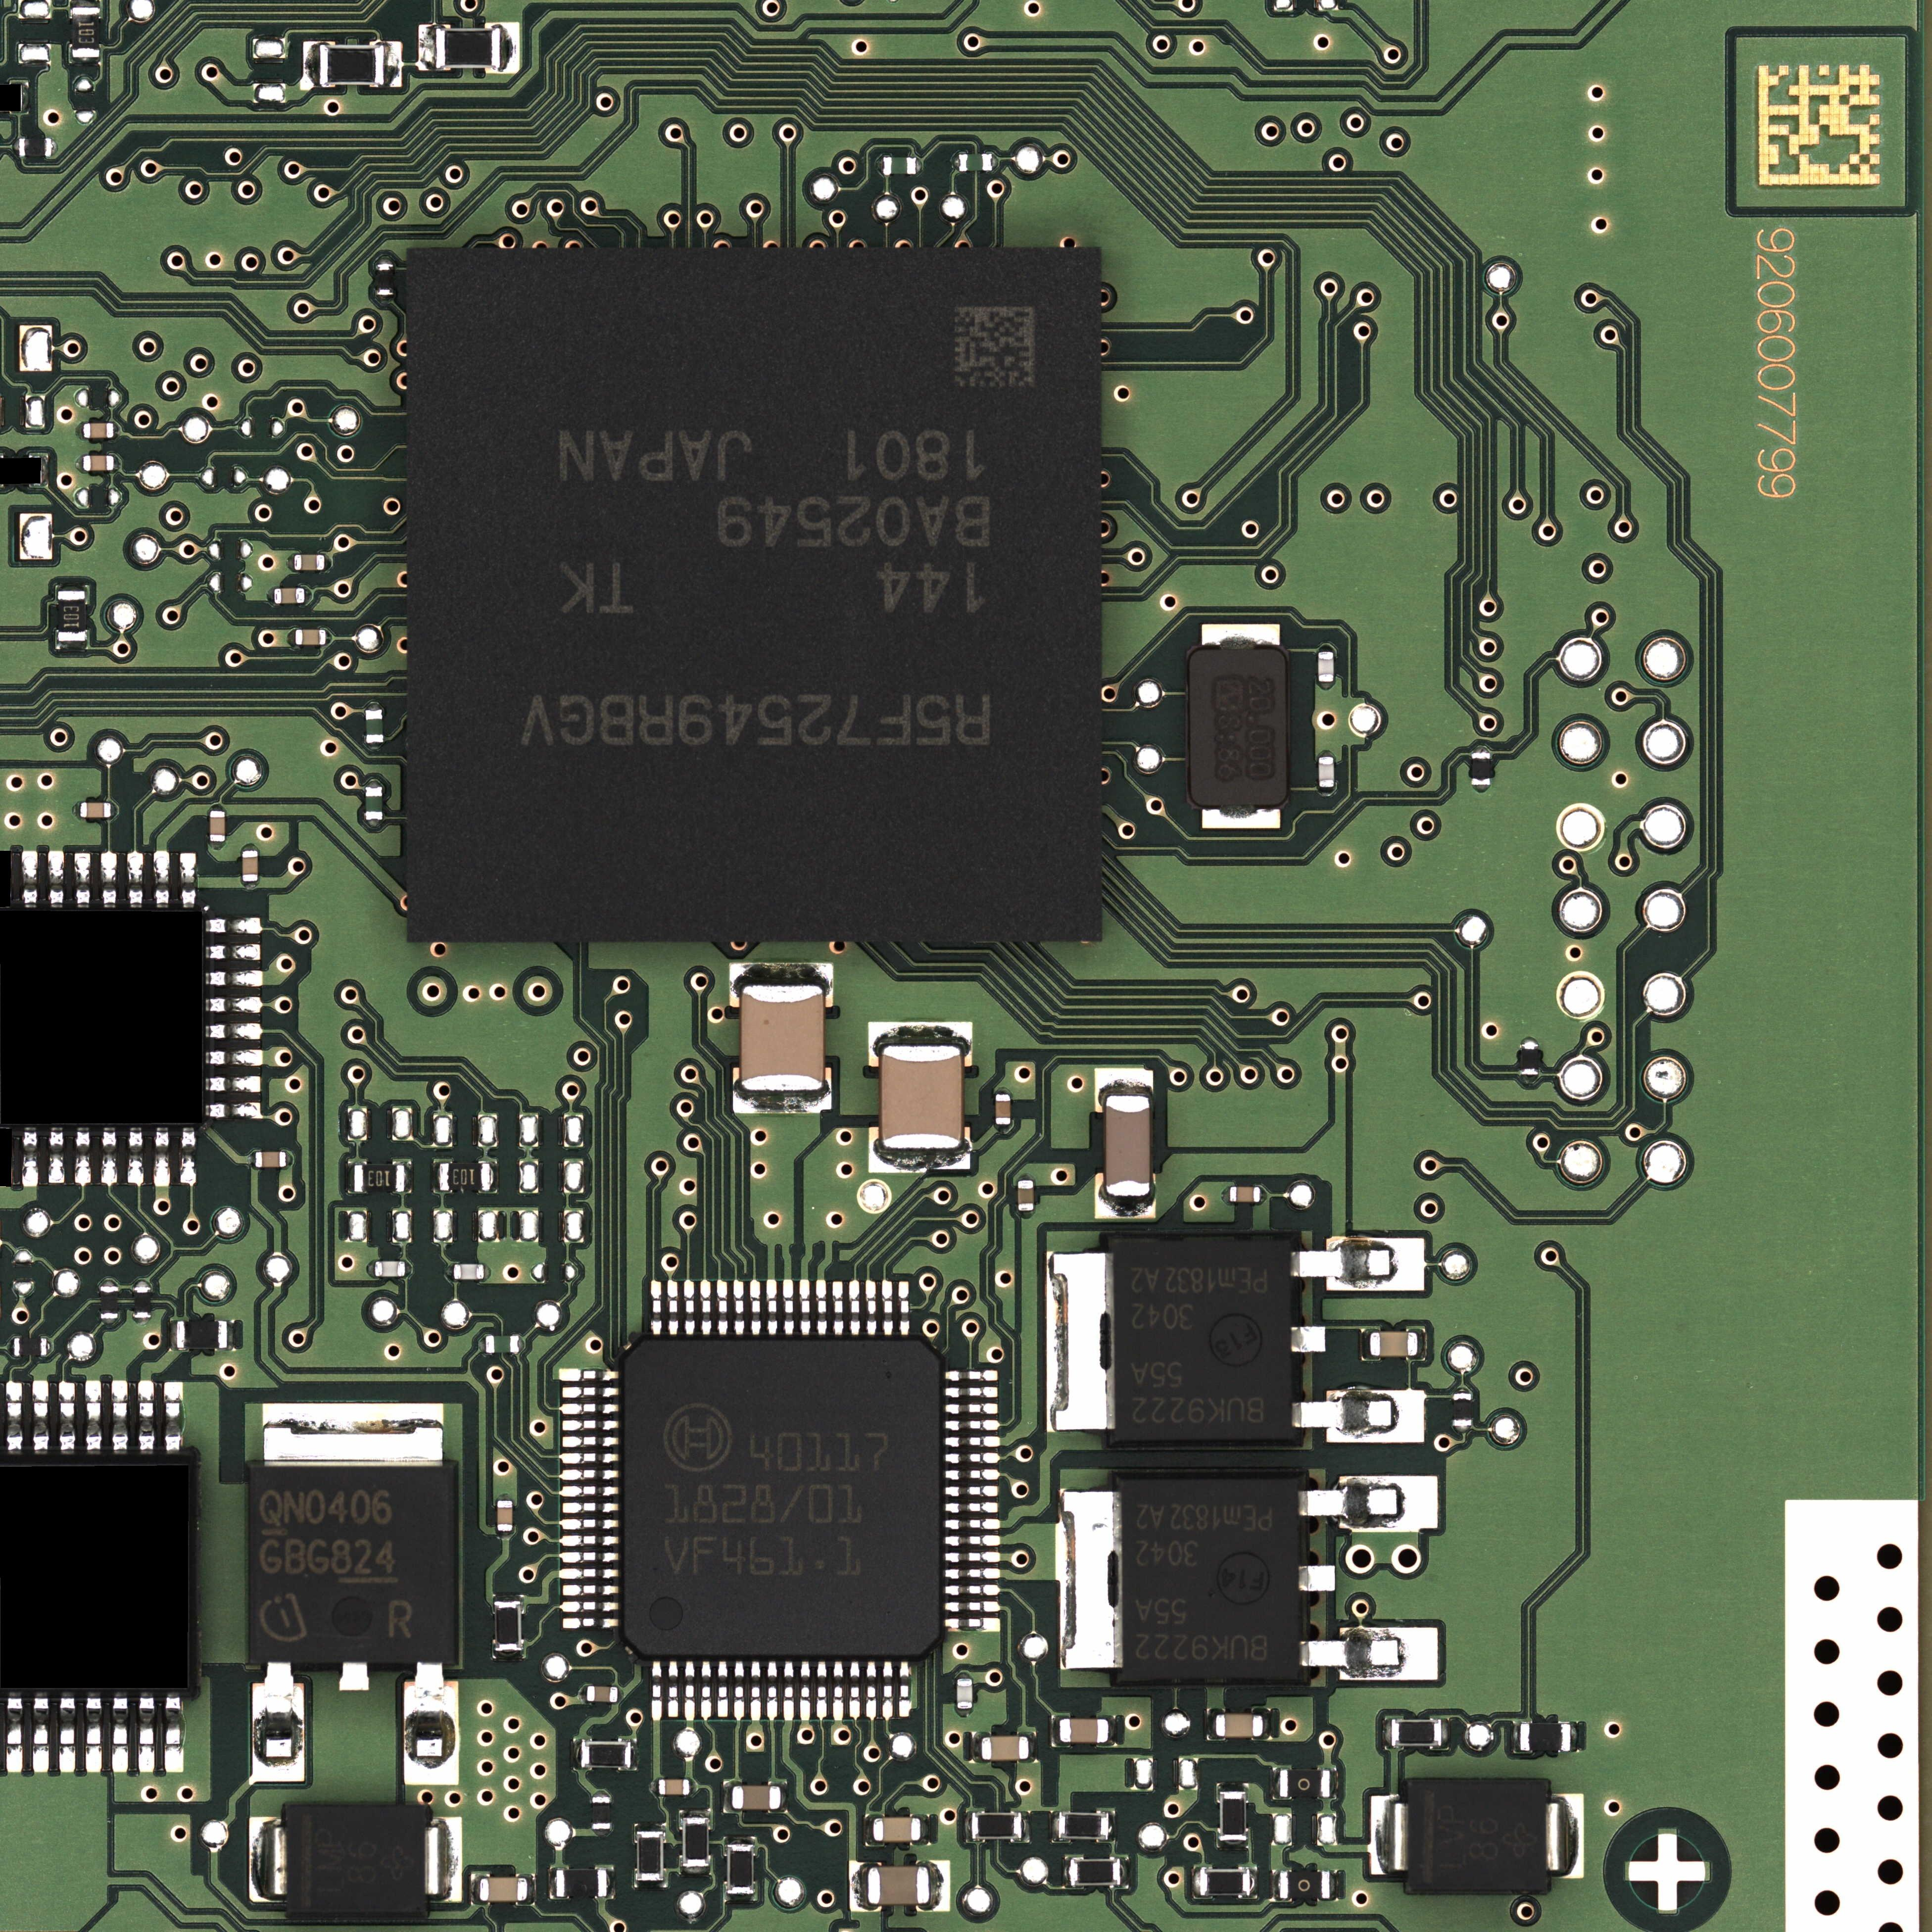Package: (409, 253, 1102, 941), (625, 1339, 941, 1656), (248, 1467, 455, 1663), (1122, 1479, 1300, 1681), (1115, 1240, 1292, 1440), (1407, 1780, 1546, 1890), (1189, 649, 1286, 807), (288, 1806, 426, 1913), (740, 985, 826, 1092), (879, 1046, 964, 1148), (1104, 1095, 1152, 1196), (435, 28, 501, 67), (320, 46, 384, 85), (867, 1867, 929, 1905), (177, 1320, 226, 1350), (354, 1164, 405, 1192), (1520, 1723, 1571, 1752), (1279, 1769, 1330, 1798), (1279, 1872, 1330, 1900), (58, 591, 87, 640), (439, 1164, 490, 1191), (556, 1870, 607, 1897), (1058, 1813, 1109, 1840), (1391, 1720, 1442, 1746), (73, 7, 99, 57), (580, 1741, 630, 1767), (637, 1831, 663, 1881), (1070, 1859, 1120, 1886), (727, 1845, 754, 1893), (495, 1601, 520, 1651), (683, 1817, 708, 1867), (1200, 1870, 1249, 1895), (971, 1813, 1021, 1838), (1060, 1718, 1109, 1743), (479, 1877, 527, 1902), (732, 1785, 780, 1810), (1221, 1792, 1246, 1840), (980, 1736, 1028, 1760), (1369, 1332, 1417, 1357), (874, 1817, 920, 1842), (1215, 1714, 1263, 1737), (14, 1338, 48, 1357), (1472, 752, 1491, 786), (1520, 1042, 1539, 1076), (1453, 1392, 1472, 1426), (19, 138, 51, 157), (375, 264, 395, 295), (366, 709, 384, 743), (883, 157, 916, 175), (485, 1336, 518, 1353), (593, 1796, 610, 1829), (959, 154, 993, 172), (364, 787, 382, 819), (101, 1286, 119, 1318), (658, 1778, 690, 1796), (80, 801, 111, 817), (294, 554, 326, 570), (255, 1152, 287, 1168), (134, 1286, 150, 1318), (1017, 1180, 1033, 1212), (83, 455, 113, 471), (242, 851, 258, 881), (83, 423, 113, 439), (274, 587, 304, 603), (295, 630, 326, 646), (375, 1261, 405, 1277), (497, 1500, 513, 1530), (453, 1263, 483, 1279), (587, 1686, 617, 1702), (1318, 757, 1334, 787), (1318, 651, 1334, 681), (1230, 1187, 1260, 1203), (957, 1679, 973, 1709), (211, 810, 225, 842), (996, 1095, 1010, 1125)
Solder: (1046, 1253, 1115, 1431), (262, 1403, 444, 1467), (1060, 1488, 1122, 1670), (1299, 1476, 1440, 1534), (1300, 1626, 1437, 1683), (1292, 1389, 1424, 1444), (1292, 1238, 1424, 1292), (403, 1663, 460, 1785), (251, 1663, 304, 1782), (249, 1817, 287, 1904), (426, 1817, 464, 1904), (1546, 1794, 1583, 1879), (1369, 1796, 1407, 1877), (869, 1021, 970, 1046), (729, 962, 833, 985), (869, 1150, 971, 1173), (732, 1092, 832, 1115), (1203, 623, 1281, 649), (1201, 807, 1281, 830), (1095, 1069, 1154, 1095), (165, 1695, 182, 1773), (165, 1375, 182, 1453), (1095, 1196, 1157, 1217), (7, 1695, 23, 1773), (34, 1695, 50, 1773), (60, 1695, 76, 1773), (85, 1695, 101, 1773), (111, 1695, 127, 1773), (138, 1695, 154, 1773), (7, 1375, 23, 1453), (34, 1375, 50, 1453), (60, 1375, 76, 1453), (85, 1375, 101, 1453), (111, 1375, 127, 1453), (138, 1375, 154, 1453), (501, 23, 520, 74), (931, 1861, 950, 1913), (154, 1127, 170, 1185), (180, 1127, 196, 1185), (849, 1861, 867, 1913), (338, 1663, 370, 1691), (101, 851, 117, 908), (127, 851, 143, 908), (1300, 1566, 1336, 1591), (207, 1023, 262, 1039), (207, 1049, 262, 1065), (207, 971, 262, 987), (207, 918, 262, 934), (180, 853, 196, 908), (559, 1368, 619, 1382), (207, 1102, 260, 1118), (1292, 1327, 1325, 1352), (418, 25, 435, 71), (23, 1127, 37, 1184), (50, 1127, 64, 1184), (76, 1127, 90, 1184), (103, 1127, 117, 1184), (129, 1127, 143, 1184), (23, 851, 37, 908), (50, 851, 64, 908), (76, 851, 90, 908), (154, 851, 168, 908), (207, 945, 262, 959), (303, 41, 318, 88), (207, 1077, 260, 1092), (207, 998, 260, 1012), (559, 1568, 619, 1580), (559, 1518, 619, 1530), (559, 1552, 619, 1564), (766, 1661, 778, 1721), (782, 1661, 794, 1721), (559, 1453, 619, 1465), (559, 1468, 619, 1481), (386, 41, 402, 87), (561, 1385, 619, 1398), (561, 1403, 619, 1415), (561, 1583, 619, 1596), (667, 1661, 679, 1720), (717, 1661, 729, 1720), (732, 1661, 745, 1720), (816, 1661, 828, 1720), (865, 1661, 878, 1720), (832, 1661, 844, 1720), (683, 1279, 695, 1336), (732, 1279, 745, 1336), (782, 1279, 794, 1336), (563, 1419, 619, 1431), (563, 1435, 619, 1447), (899, 1661, 911, 1718), (832, 1281, 844, 1336), (945, 1518, 998, 1530), (945, 1568, 998, 1580), (559, 1536, 619, 1546), (750, 1661, 761, 1721), (559, 1486, 619, 1497), (800, 1661, 810, 1721), (947, 1419, 998, 1431), (947, 1468, 998, 1481), (947, 1534, 998, 1546), (947, 1617, 998, 1629), (651, 1661, 662, 1720), (561, 1601, 619, 1612), (685, 1661, 695, 1720), (701, 1661, 711, 1720), (561, 1502, 619, 1513), (883, 1661, 893, 1720), (849, 1661, 860, 1720), (651, 1279, 662, 1336), (667, 1279, 678, 1336), (701, 1279, 711, 1336), (750, 1279, 761, 1336), (717, 1279, 727, 1336), (766, 1279, 777, 1336), (816, 1279, 826, 1336), (849, 1279, 860, 1336), (865, 1279, 876, 1336), (800, 1279, 810, 1336), (883, 1279, 893, 1336), (563, 1617, 619, 1628), (899, 1281, 909, 1336), (945, 1371, 998, 1382), (945, 1387, 998, 1398), (945, 1437, 998, 1447), (945, 1453, 998, 1463), (945, 1502, 998, 1513), (945, 1585, 998, 1596), (947, 1403, 998, 1414), (947, 1486, 998, 1497), (947, 1552, 998, 1562), (947, 1601, 998, 1612), (21, 83, 34, 113), (920, 1813, 931, 1845), (722, 1780, 732, 1812), (970, 1730, 980, 1762), (863, 1813, 872, 1847), (55, 640, 87, 649), (527, 1874, 536, 1905), (492, 1651, 524, 1660), (679, 1867, 711, 1875), (635, 1881, 667, 1890), (1361, 1329, 1369, 1361), (1417, 1329, 1426, 1361), (1217, 1840, 1249, 1849), (1263, 1707, 1272, 1739), (1207, 1709, 1215, 1741), (1120, 1856, 1129, 1888), (42, 455, 51, 487), (71, 57, 101, 65), (228, 1320, 237, 1350), (168, 1320, 177, 1350), (471, 1874, 479, 1904), (635, 1822, 665, 1831), (725, 1893, 755, 1902), (780, 1782, 789, 1812), (1028, 1732, 1037, 1762), (1051, 1716, 1060, 1746), (1330, 1870, 1339, 1900), (1440, 1718, 1449, 1748), (1571, 1721, 1580, 1752), (405, 1161, 412, 1192), (573, 1737, 580, 1769), (724, 1836, 755, 1844), (679, 1810, 711, 1817), (607, 1867, 614, 1898), (548, 1867, 556, 1898), (1272, 1767, 1279, 1799), (1217, 1783, 1249, 1790), (1109, 1714, 1116, 1746), (1108, 1810, 1115, 1842), (1251, 1867, 1258, 1898), (1063, 1856, 1070, 1888), (1330, 1767, 1338, 1799), (1513, 1721, 1520, 1753), (57, 584, 87, 591), (347, 1162, 354, 1192), (490, 1162, 497, 1192), (494, 1594, 524, 1601), (1023, 1812, 1030, 1842), (1051, 1812, 1058, 1842), (1192, 1867, 1200, 1897), (1384, 1718, 1391, 1748), (1272, 1870, 1279, 1900), (964, 1812, 971, 1842), (71, 0, 99, 7), (1520, 1076, 1539, 1085), (433, 1161, 439, 1192), (632, 1737, 637, 1769), (287, 628, 295, 646), (364, 778, 382, 787), (1318, 681, 1334, 690), (375, 295, 395, 303), (591, 1790, 610, 1798), (1453, 1426, 1472, 1433), (12, 138, 19, 156), (377, 258, 395, 265), (366, 743, 384, 750), (364, 821, 382, 828), (324, 554, 331, 571), (74, 801, 81, 819), (483, 1265, 492, 1279), (101, 1318, 119, 1325), (46, 1338, 53, 1355), (368, 1260, 375, 1277), (7, 1339, 14, 1357), (133, 1316, 150, 1323), (952, 154, 959, 172), (1223, 1185, 1230, 1203), (957, 1670, 971, 1679), (1472, 745, 1490, 752), (113, 423, 120, 439), (76, 423, 83, 439), (76, 455, 83, 471), (242, 844, 258, 851), (242, 881, 258, 888), (304, 587, 311, 603), (366, 702, 382, 709), (326, 630, 333, 646), (111, 801, 119, 817), (287, 1152, 294, 1168), (405, 1261, 412, 1277), (134, 1281, 150, 1288), (497, 1530, 513, 1537), (591, 1829, 612, 1835), (580, 1686, 587, 1702), (1318, 750, 1334, 757), (1318, 787, 1334, 794), (1017, 1210, 1033, 1217), (996, 1125, 1012, 1132), (878, 156, 883, 175), (1453, 1387, 1472, 1392), (446, 1265, 453, 1279), (996, 1088, 1010, 1095), (288, 554, 294, 571), (101, 1281, 119, 1286), (916, 157, 922, 175), (479, 1336, 485, 1353), (495, 1495, 513, 1500), (690, 1778, 695, 1796), (653, 1778, 658, 1796), (955, 1709, 973, 1714), (993, 154, 998, 172), (1472, 786, 1490, 791), (53, 140, 58, 156), (113, 455, 119, 471), (209, 842, 225, 847), (269, 587, 274, 603), (249, 1152, 255, 1168), (520, 1336, 525, 1352), (617, 1686, 623, 1702), (1318, 646, 1334, 651), (1260, 1187, 1265, 1203), (1522, 1037, 1537, 1042), (211, 805, 225, 810), (1019, 1175, 1033, 1180)
